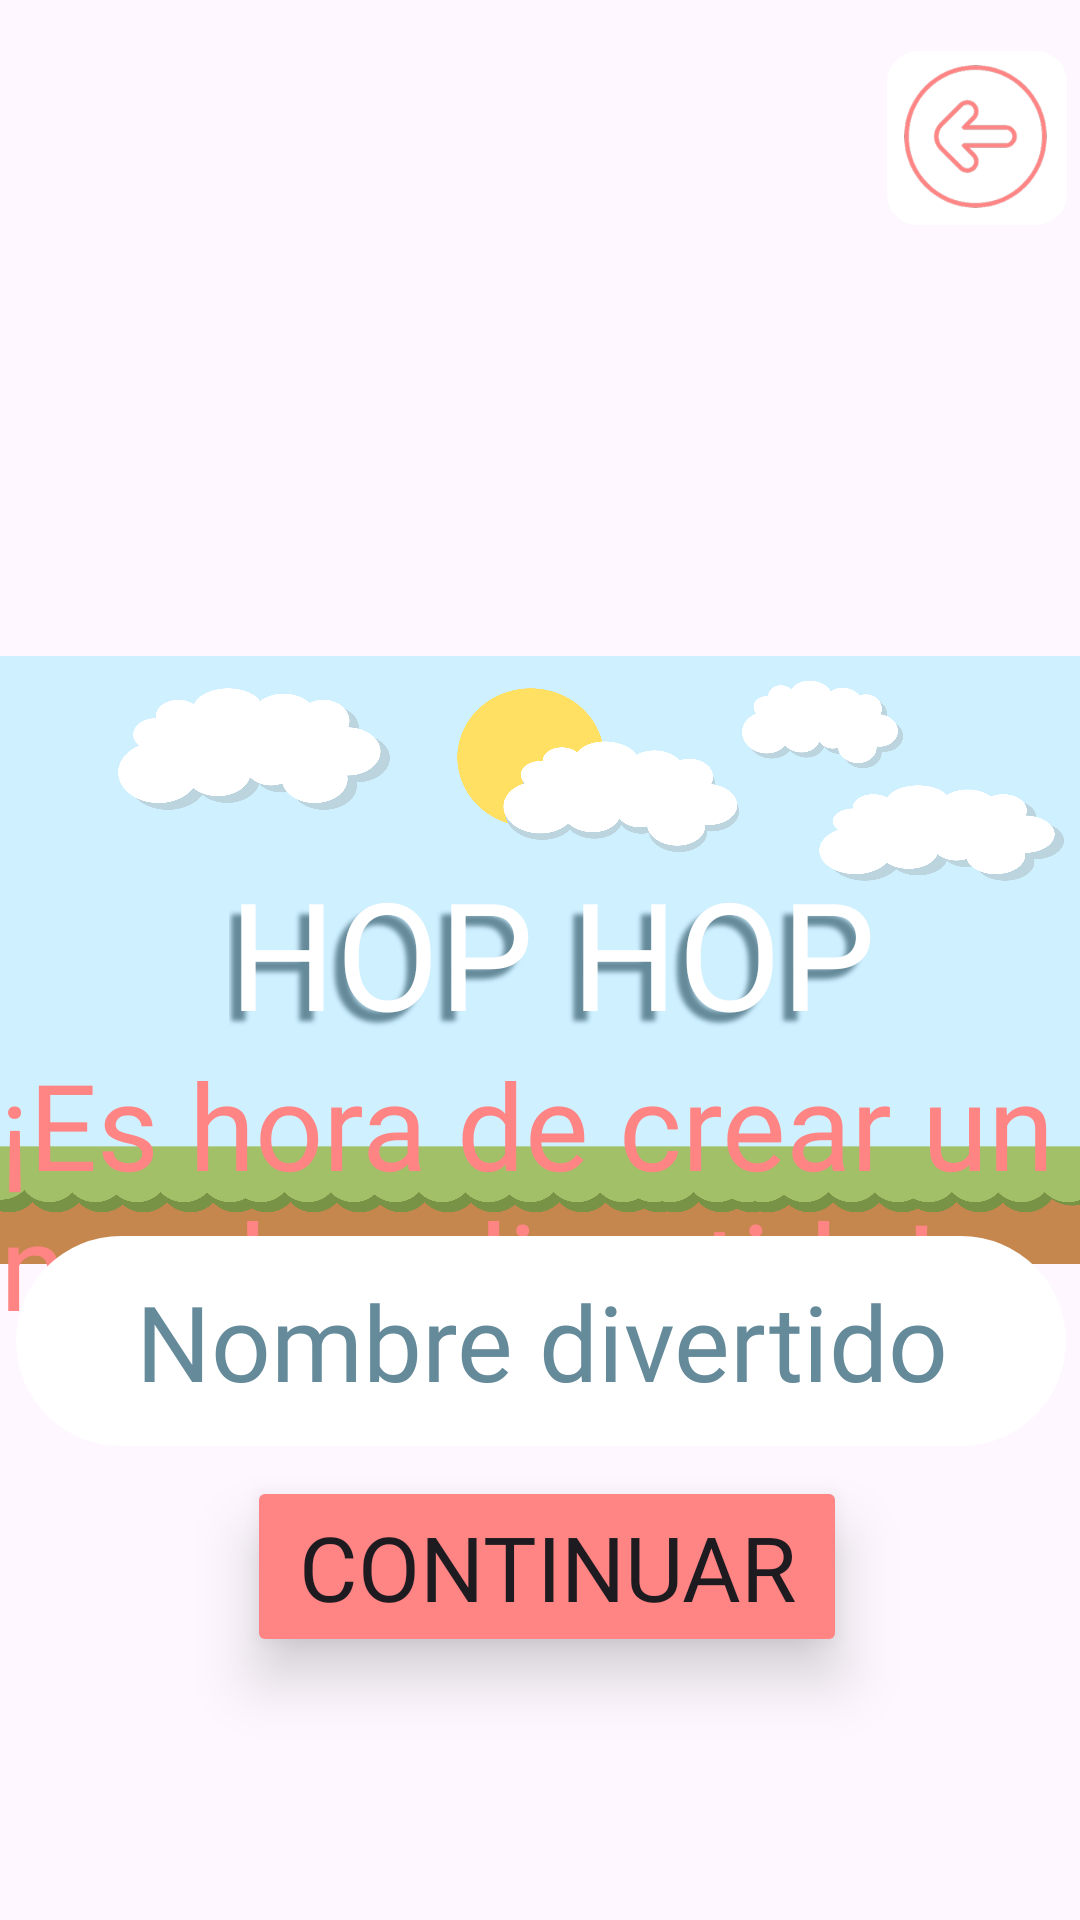

Point at icon controls on the screen. Image size 1080x1920, points as (x=x, y=y).
regresar blanca: (x=975, y=136)
